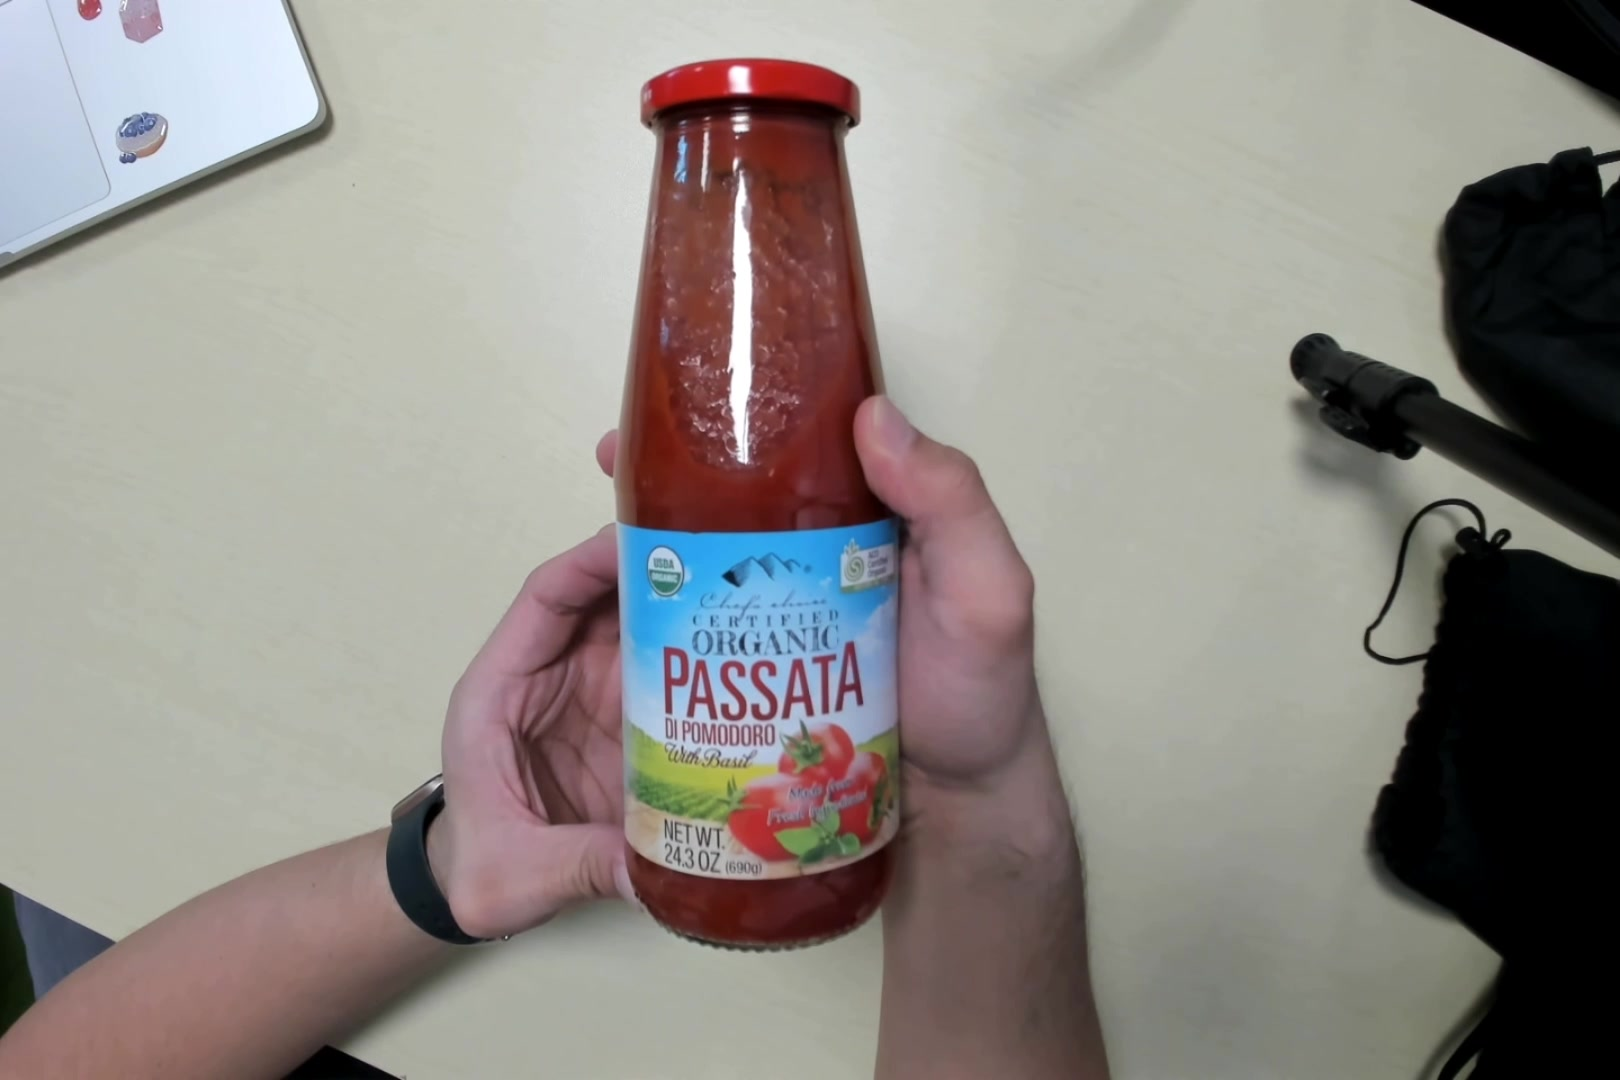PastaSauce_600-699g_NonHalal_NonHealthy: (607, 60, 904, 957)
